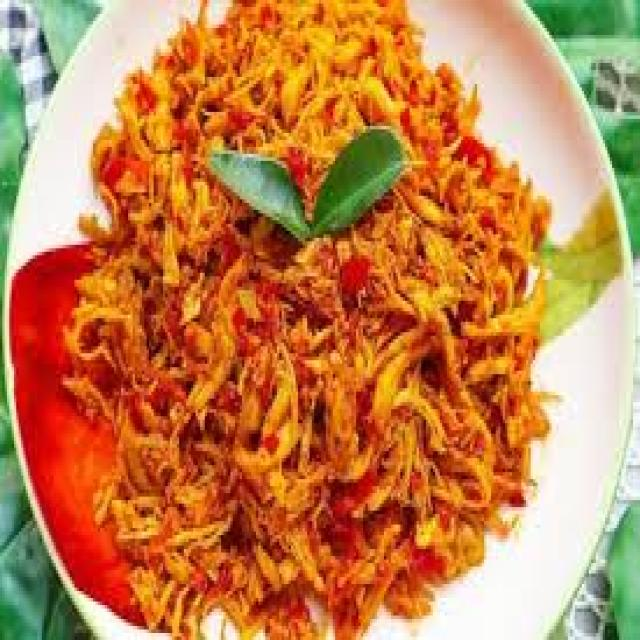ayam_suwir: (74, 1, 535, 638)
